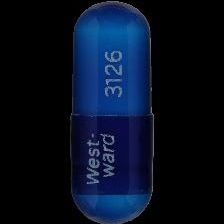68788-9935: (0, 0, 224, 224)
